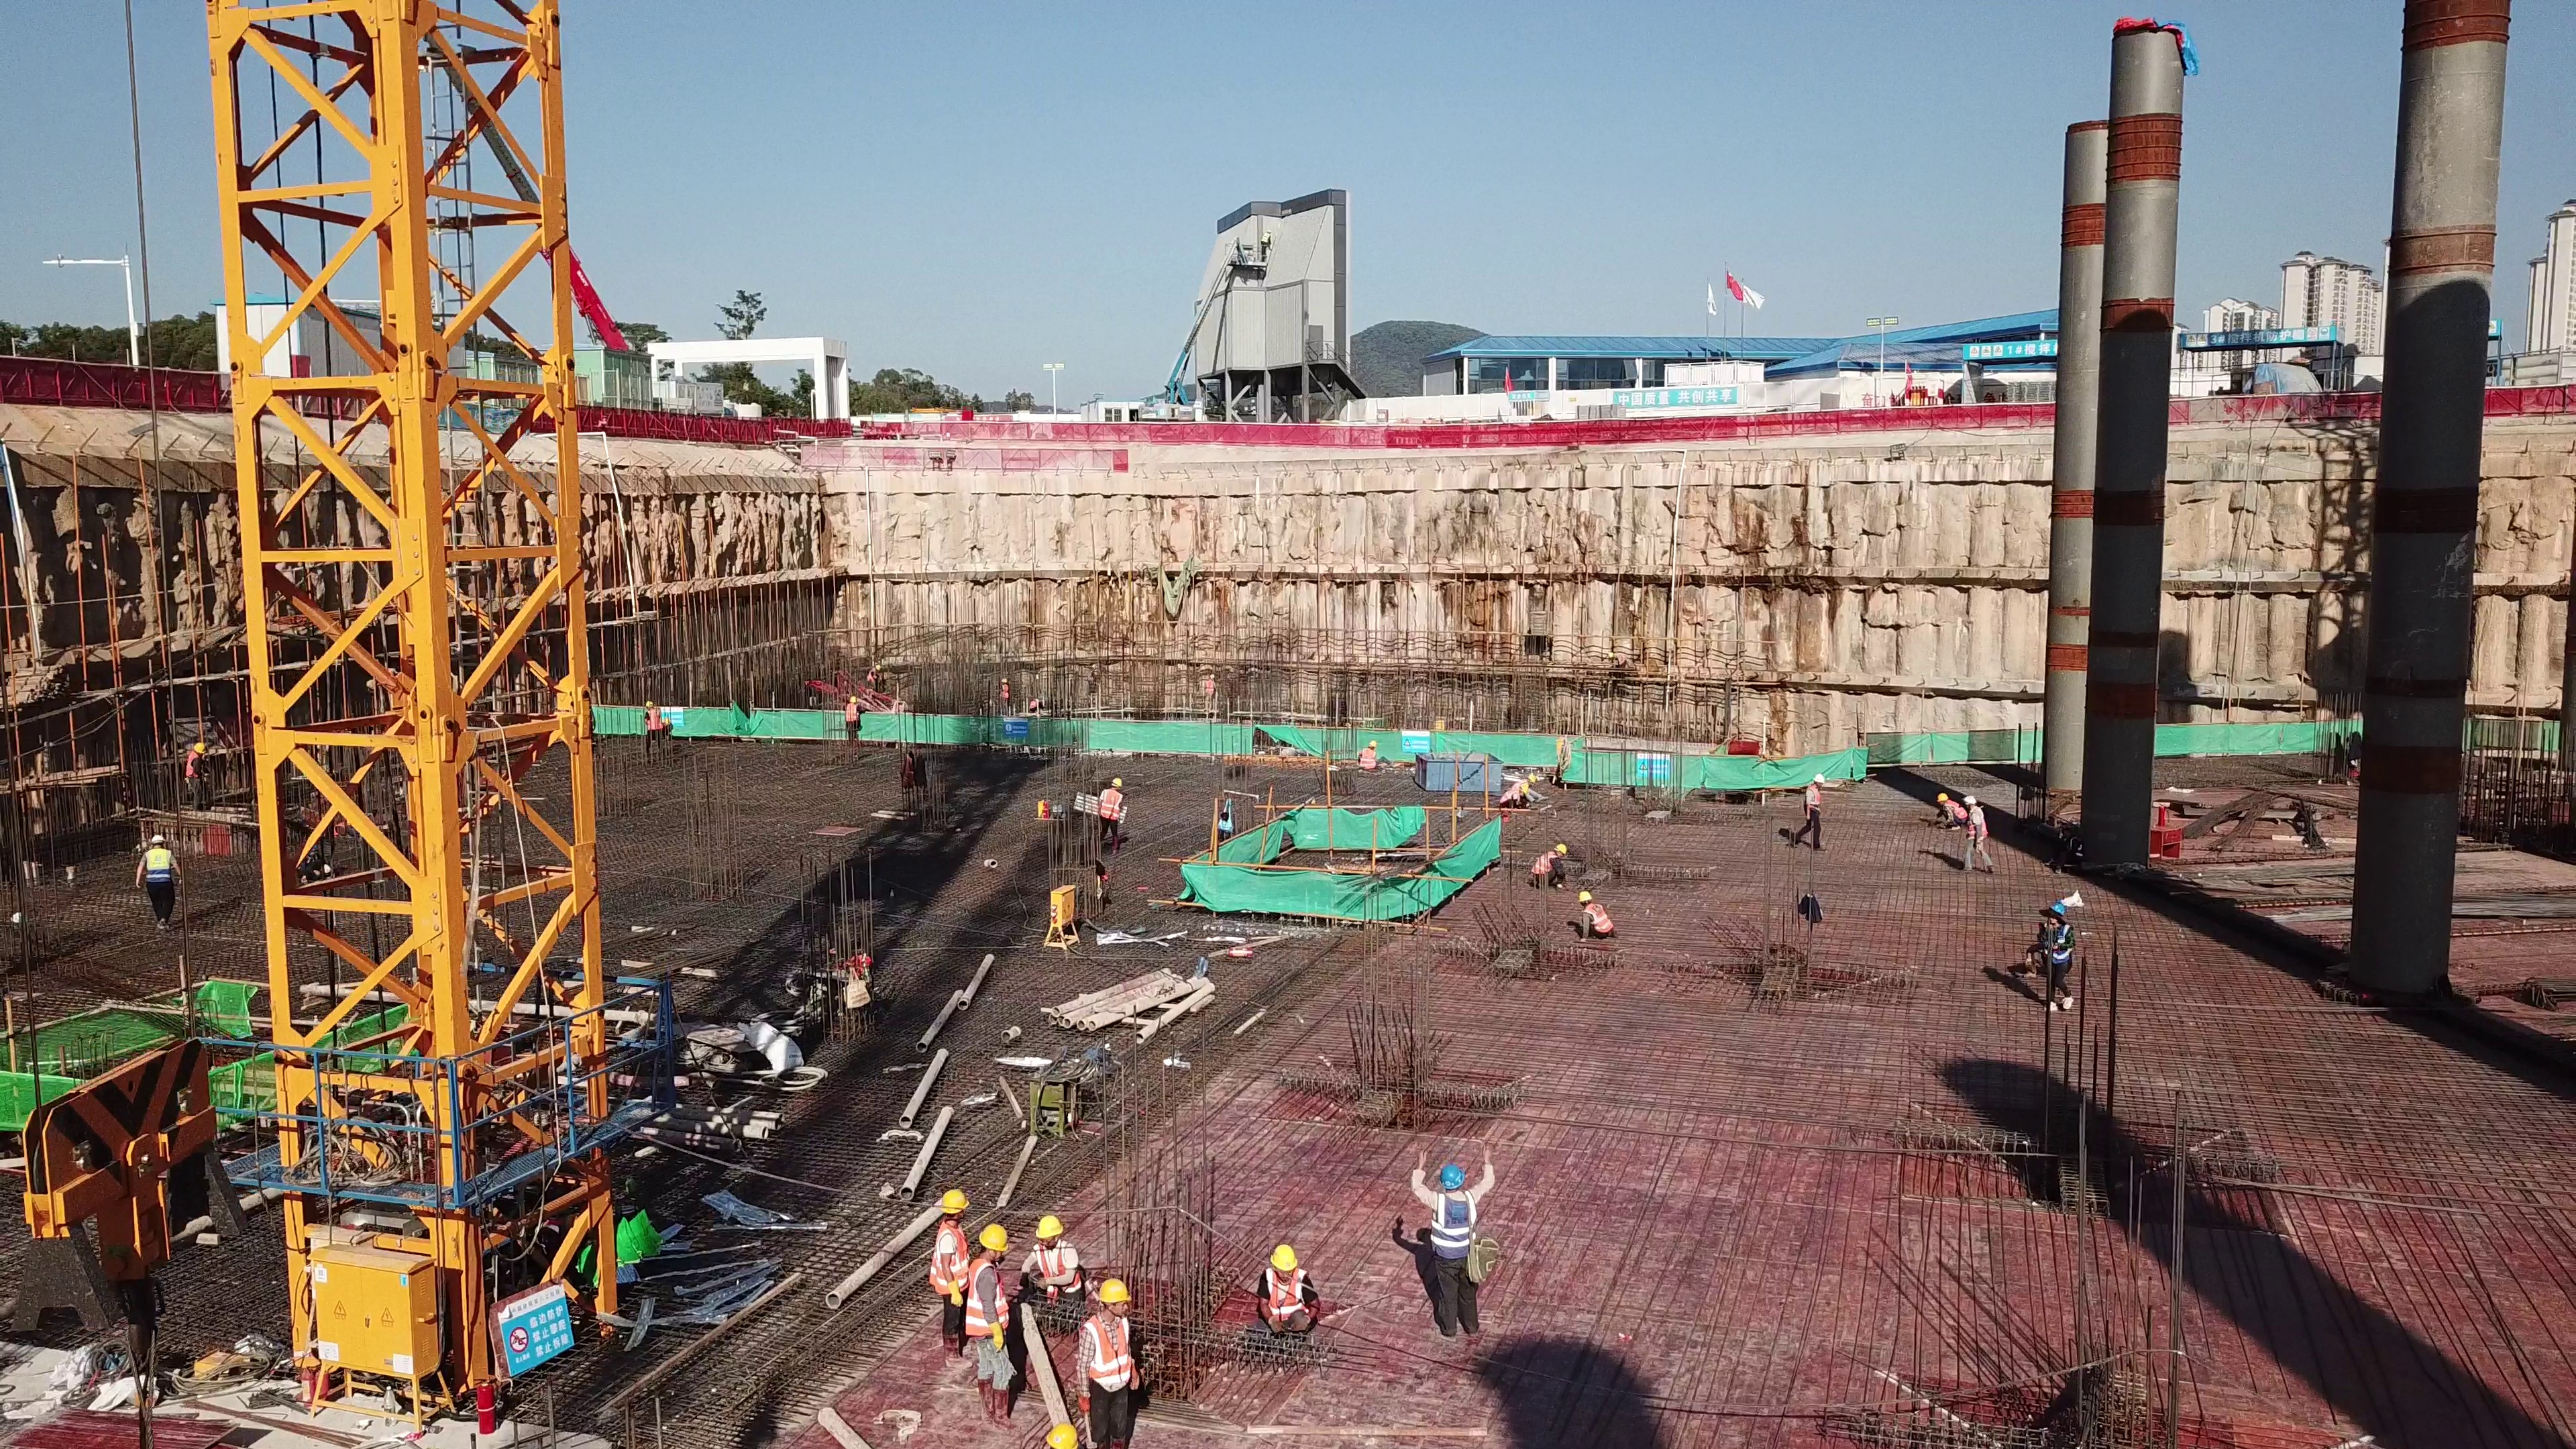brick: (1575, 396, 1629, 424)
ebox: (302, 1234, 445, 1442), (1043, 880, 1081, 941)
fence: (1066, 414, 1546, 460), (619, 409, 839, 447)
helmet: (1440, 1156, 1473, 1197), (1029, 1216, 1069, 1245), (942, 1183, 973, 1218), (1265, 1248, 1300, 1275), (977, 1220, 1006, 1248), (1096, 1272, 1124, 1299), (2046, 901, 2068, 912), (1935, 792, 1951, 809), (1576, 889, 1593, 902), (1964, 795, 1980, 807), (1553, 842, 1567, 854), (1107, 777, 1123, 787), (1527, 775, 1537, 788), (192, 745, 208, 751), (1815, 773, 1826, 784), (1366, 739, 1377, 748), (848, 696, 859, 705), (1519, 787, 1527, 800), (152, 835, 164, 843), (874, 665, 882, 674), (1000, 678, 1008, 682)
hook: (32, 1020, 217, 1315)
hopper: (1417, 751, 1497, 804)
person: (1410, 1140, 1508, 1339), (1080, 1275, 1148, 1449), (965, 1220, 1013, 1430), (133, 822, 203, 938), (1252, 1245, 1323, 1346), (930, 1191, 970, 1365), (2023, 898, 2086, 1009), (1022, 1210, 1087, 1312), (1575, 888, 1637, 946), (1965, 792, 1996, 874), (1797, 771, 1828, 851), (637, 696, 674, 759), (1496, 771, 1552, 809), (184, 741, 214, 808), (1098, 772, 1125, 837), (1935, 792, 1968, 837), (843, 689, 862, 753), (1605, 647, 1638, 672), (1359, 741, 1381, 773), (867, 659, 887, 694), (996, 676, 1014, 714), (1025, 697, 1044, 720)
slogan: (2178, 326, 2339, 344), (1615, 386, 1737, 404), (1968, 339, 2060, 358)
vest: (1428, 1197, 1479, 1269), (965, 1263, 1009, 1336), (1263, 1269, 1320, 1322), (929, 1229, 969, 1300), (1093, 1305, 1128, 1386), (2041, 922, 2077, 969), (1038, 1248, 1073, 1295), (1587, 904, 1620, 940), (1964, 806, 1991, 841), (145, 852, 169, 887), (1529, 848, 1556, 876), (1102, 790, 1124, 824), (1805, 784, 1825, 815), (1943, 802, 1967, 824), (186, 754, 206, 778), (845, 704, 859, 728), (1499, 793, 1525, 803), (1360, 749, 1377, 768), (1028, 700, 1039, 714), (866, 668, 876, 685), (1001, 686, 1011, 703)
